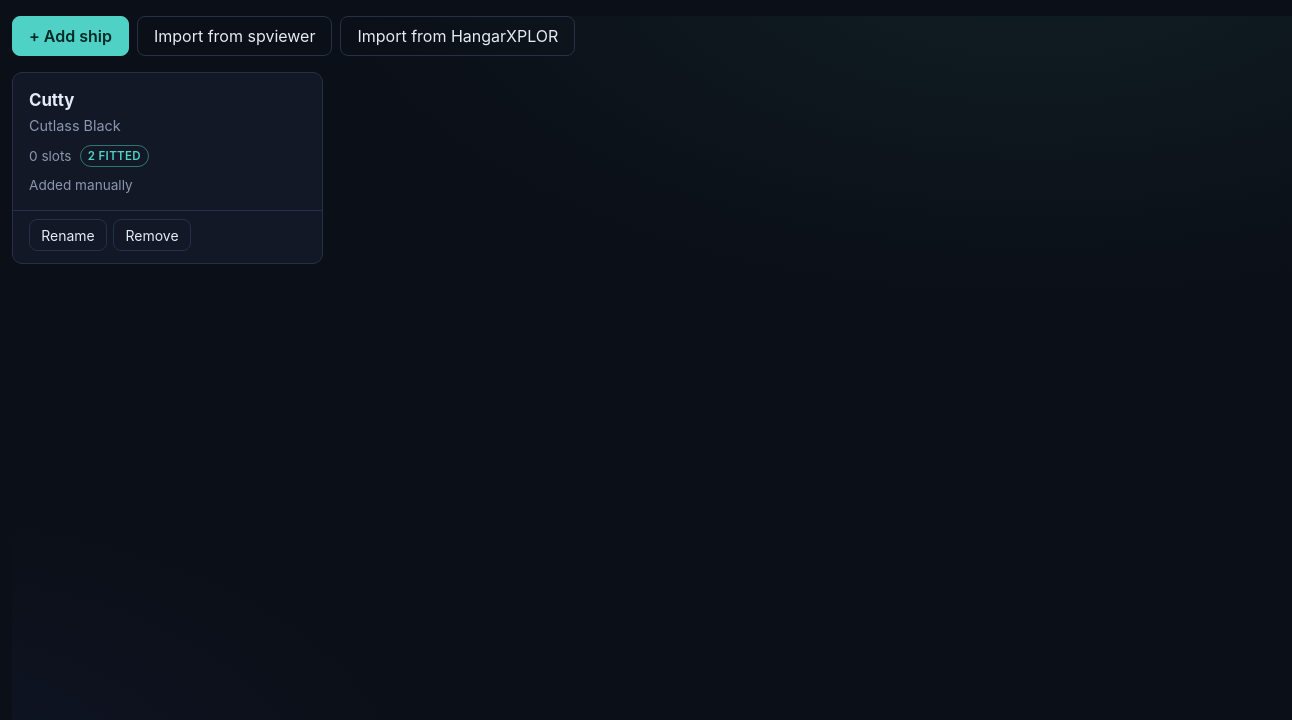
it: HangarView › shows a removal error
What coordinates should you click on to do the following:
click the button "Remove"
I would click on:
 (152, 235)
Its box is x1=113 y1=219 x2=191 y2=251.
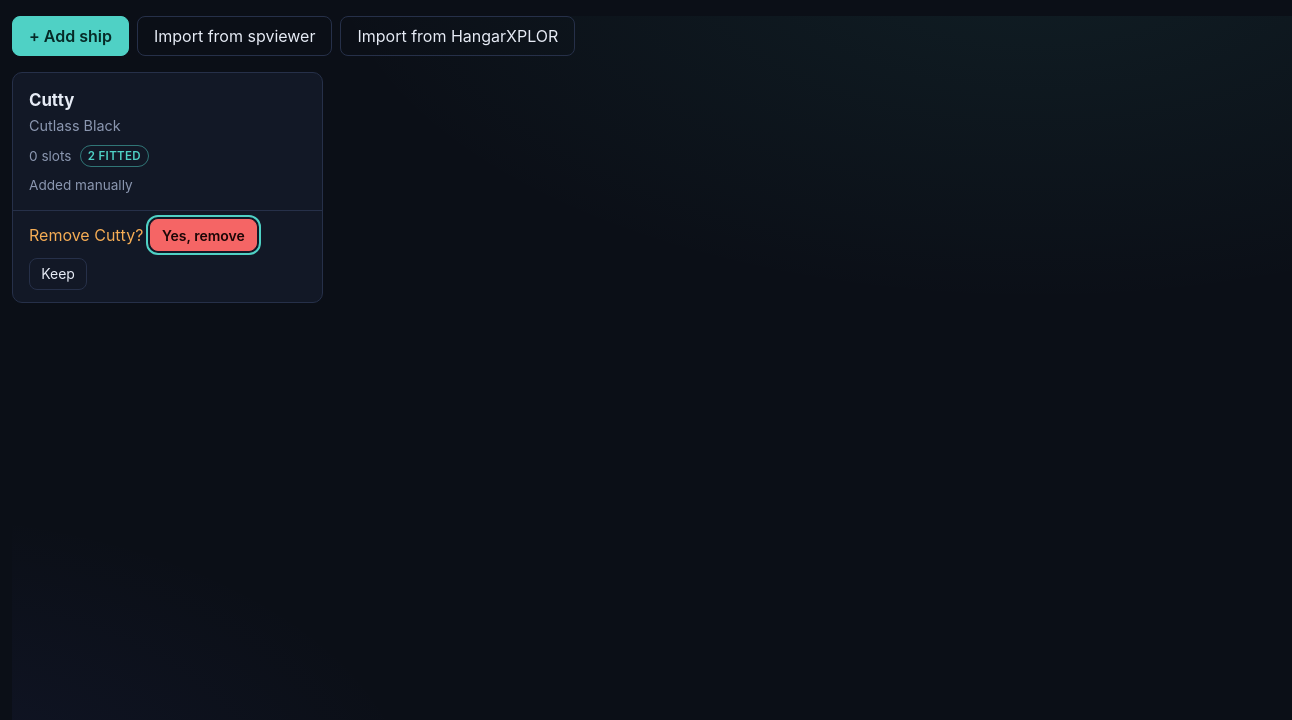
What coordinates should you click on to do the following:
click the button "Yes, remove"
I would click on:
 (203, 235)
Its box is x1=150 y1=219 x2=257 y2=251.
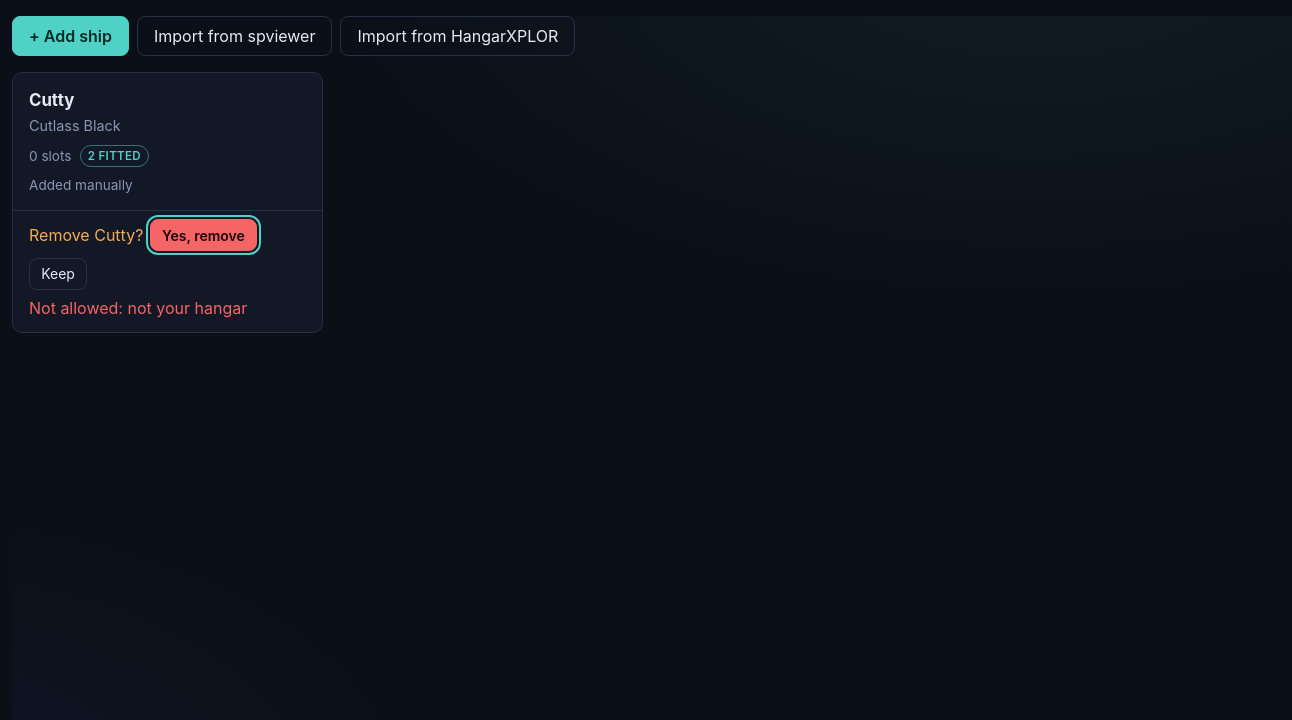
Expected: the text "Not allowed: not your hangar" is shown, x1=29 y1=296 x2=247 y2=320
